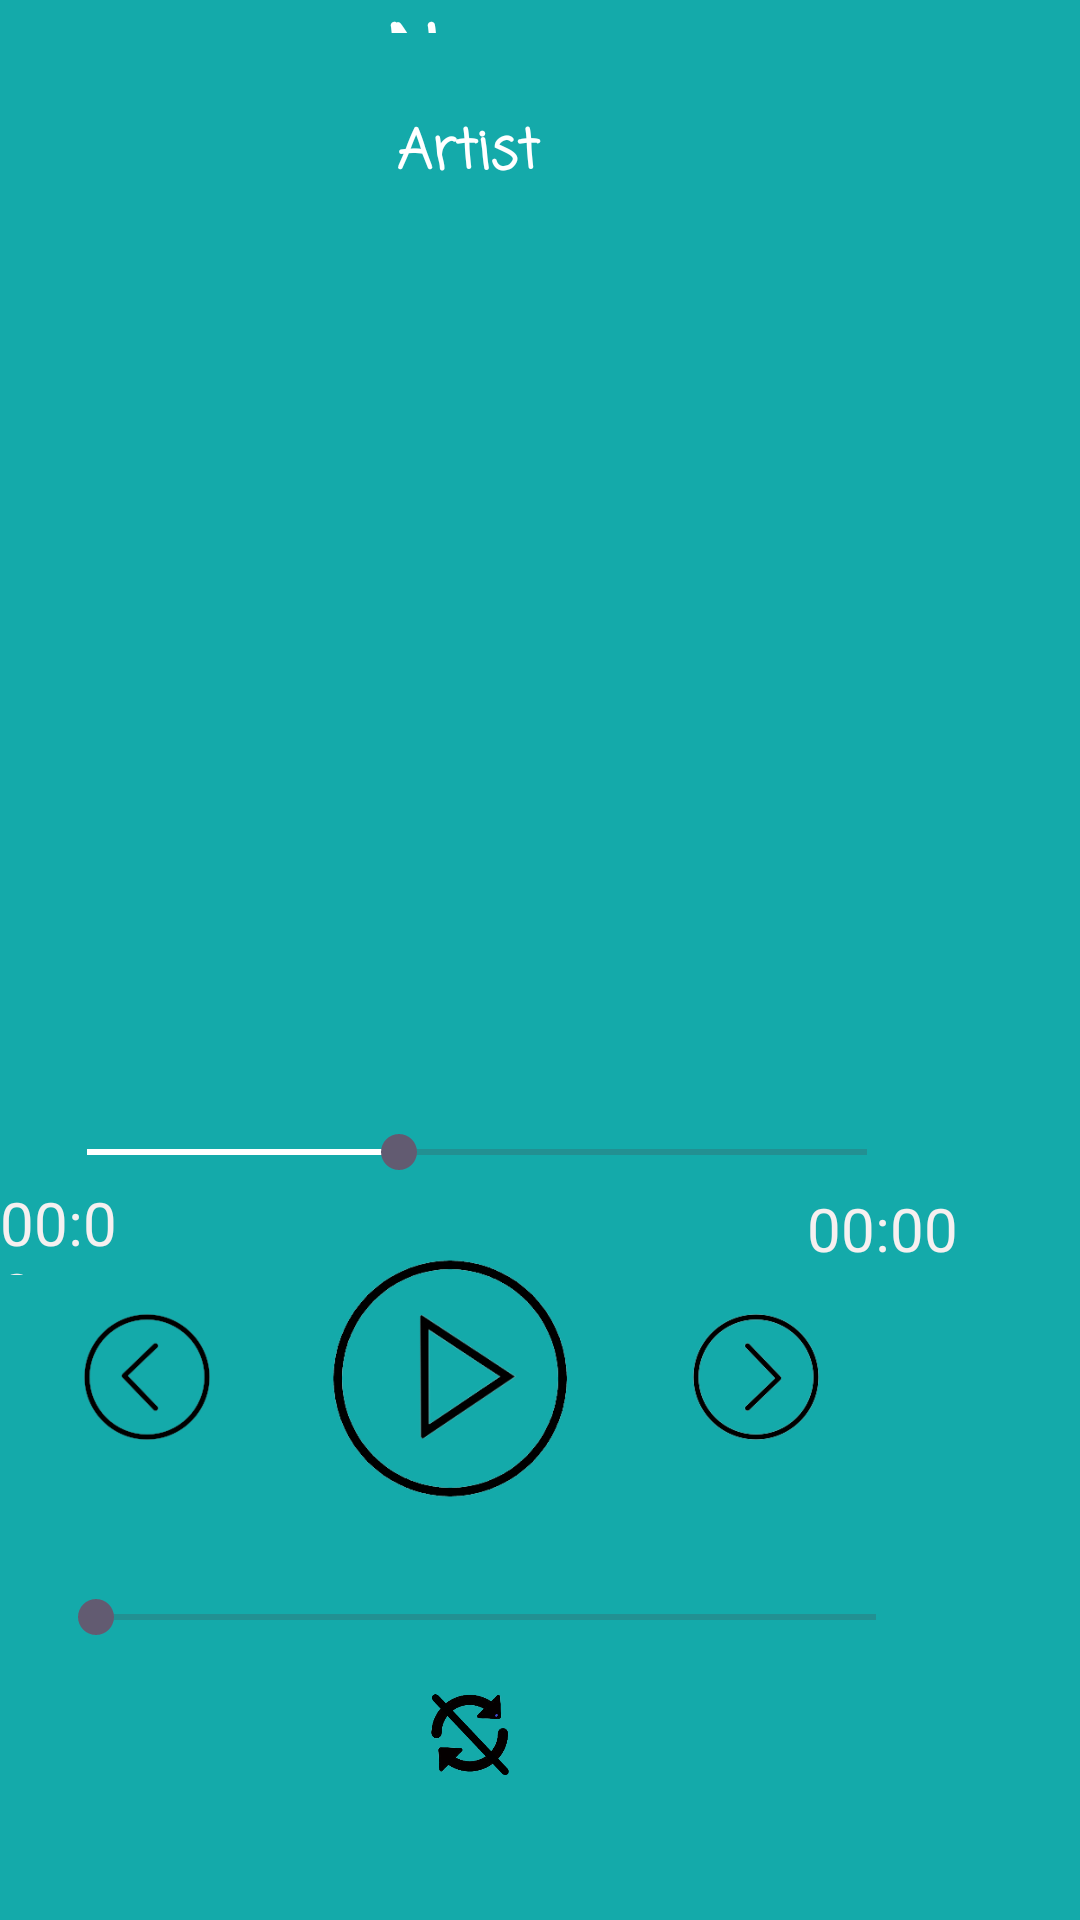

Point at icon controls on the screen. Image size 1080px x 1920px, points as [x,y].
loop stop: [470,1734]
next: [756,1377]
play: [450,1378]
prev: [147,1377]
